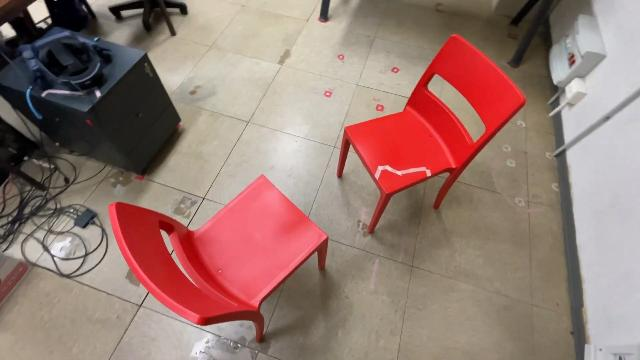Chair: (332, 31, 528, 238), (106, 172, 330, 346)
